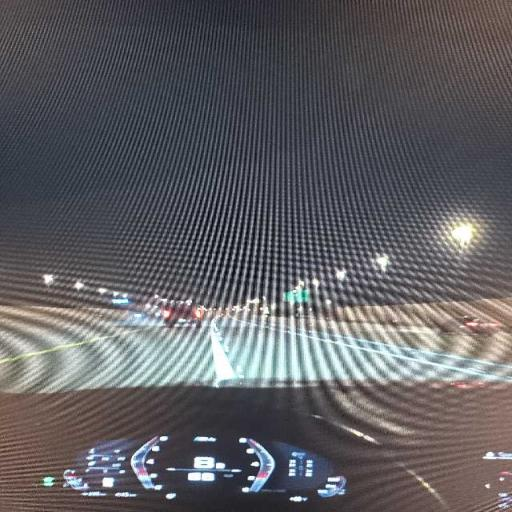car: (440, 316, 500, 335), (161, 302, 204, 327)
lane: (226, 320, 511, 384), (0, 311, 215, 392)
